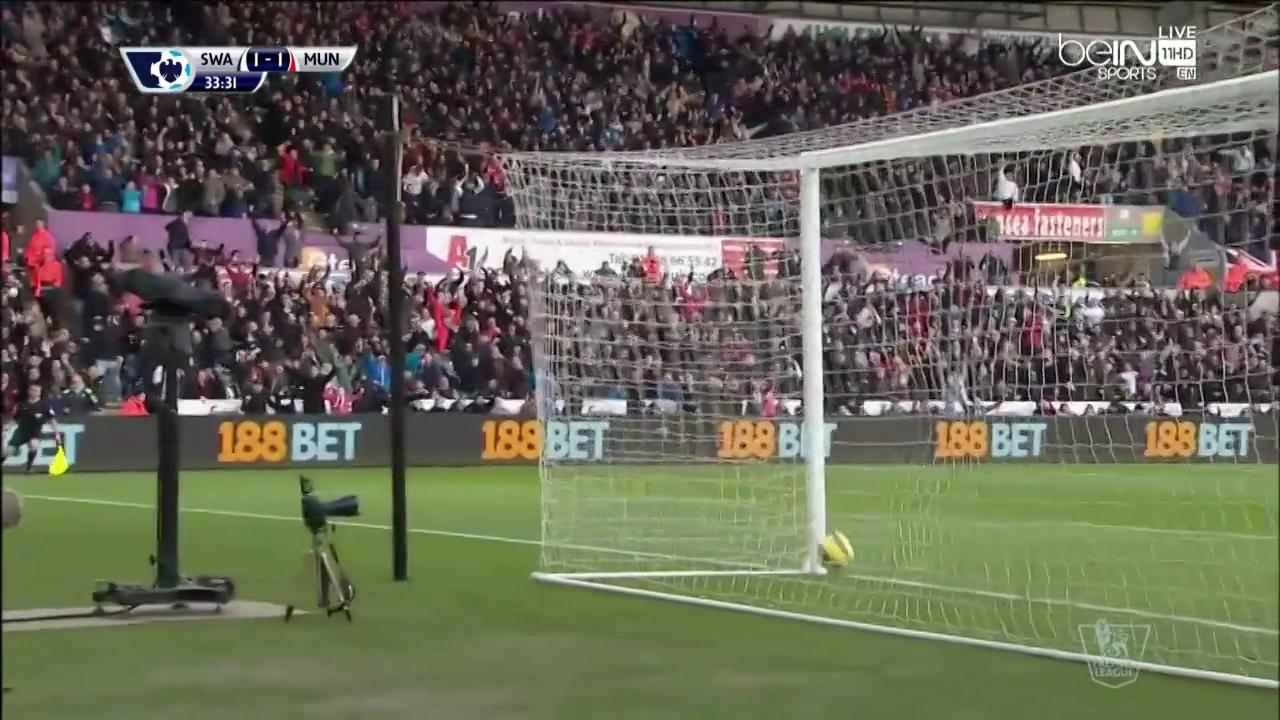football: (818, 533, 856, 569)
